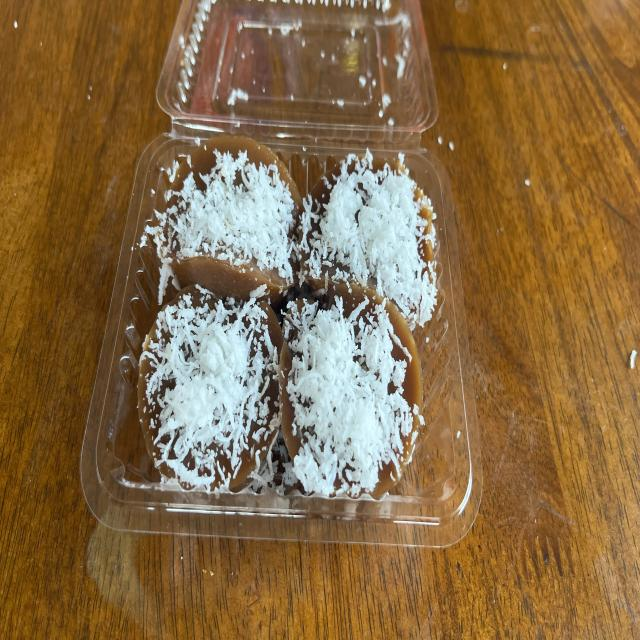Kuih lompang: (279, 282, 422, 498), (139, 284, 282, 491), (146, 138, 301, 302), (300, 151, 435, 329)
